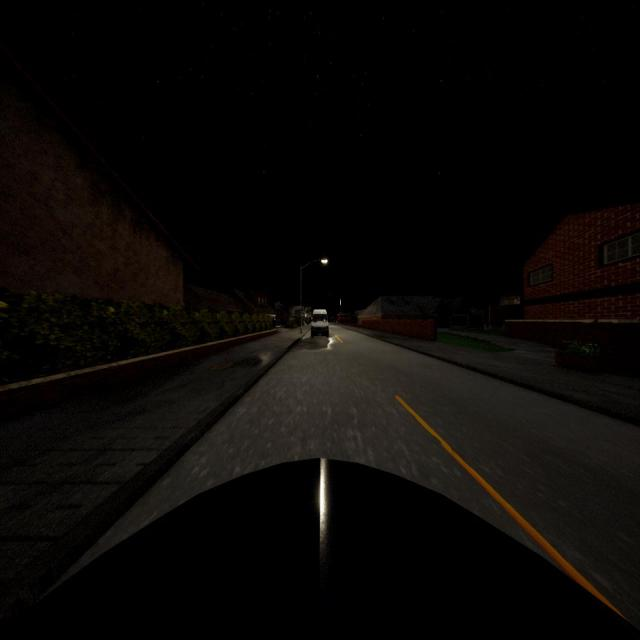Vehicle: (0, 453, 640, 640), (311, 309, 329, 337), (269, 314, 281, 327)
